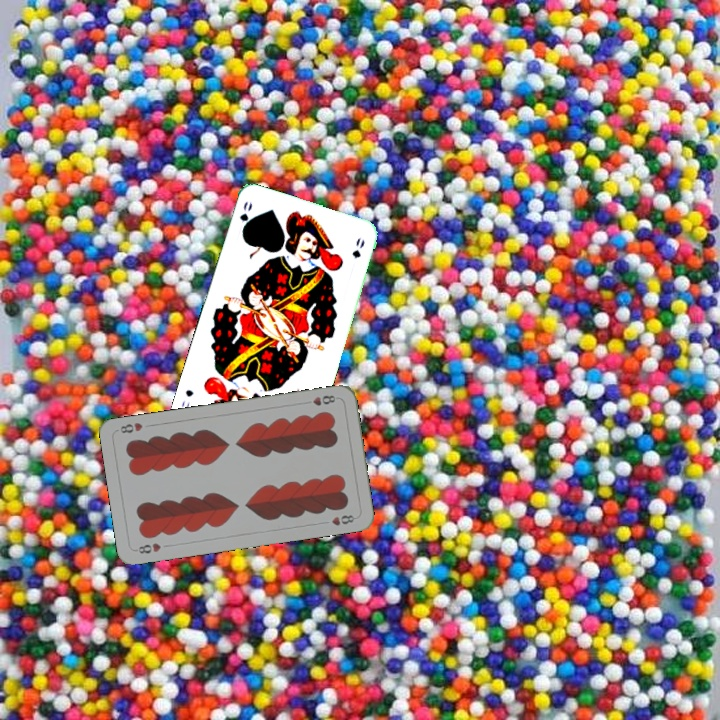GO: (235, 197, 255, 238)
H8: (300, 391, 338, 408), (131, 539, 164, 556)
